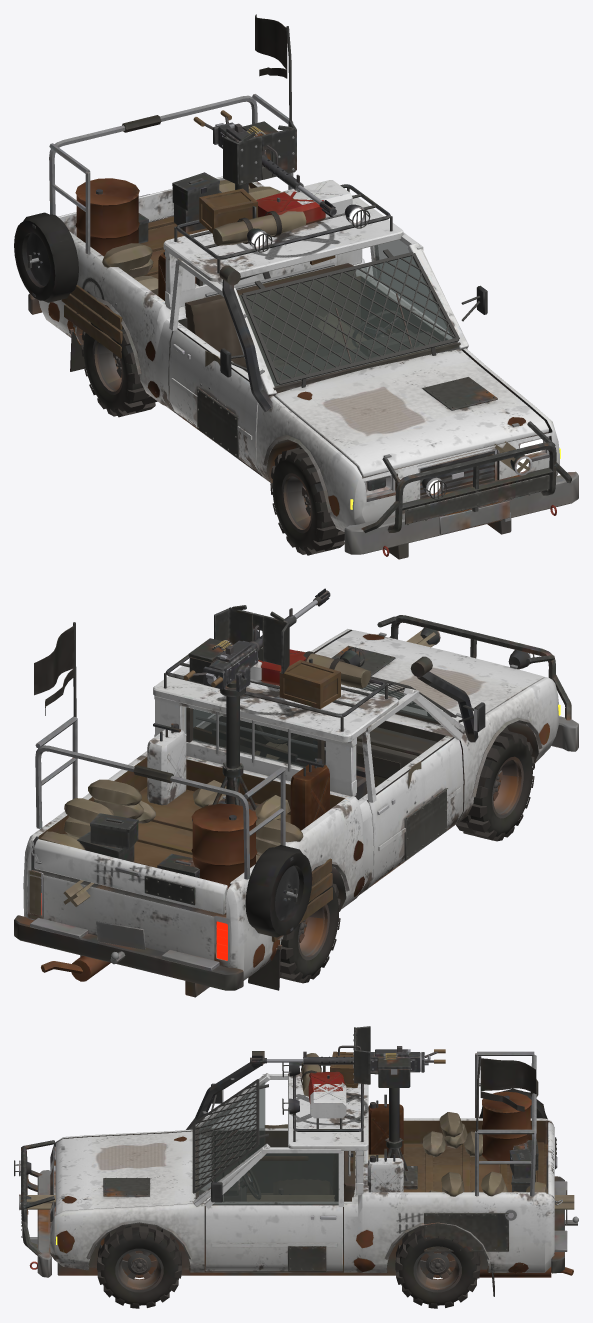
Rendered from e_technical.glb.
3 renders of one model, top to bottom at view 1: azimuth 30°, elevation 25°; view 2: azimuth 150°, elevation 25°; view 3: azimuth 270°, elevation 25°, orthographic. The views are drawn at different scales.
Visible parts, largest first — view 1: body_mesh, panel_hood, panel_bumper_F, panel_door_R, gun_mg, wheel_FR_tire, wheel_RR_tire, panel_door_L, wheel_FR_rim, panel_tailgate, wheel_RR_rim; view 2: body_mesh, panel_door_R, panel_hood, panel_bumper_R, gun_mg, panel_tailgate, panel_bumper_F, wheel_FR_tire, wheel_RR_tire, wheel_FR_rim, wheel_RR_rim; view 3: body_mesh, panel_door_L, panel_hood, wheel_FL_tire, panel_bumper_F, gun_mg, wheel_RL_tire, wheel_FL_rim, wheel_RL_rim, panel_bumper_R, panel_door_R, panel_tailgate.
Part boxes in pixels (x1,y1,x2,y2): body_mesh: (14,14,560,559); panel_hood: (274,349,548,477); panel_bumper_F: (170,216,578,556); panel_door_R: (169,258,261,474); gun_mg: (193,110,336,217); wheel_FR_tire: (270,447,344,555); wheel_RR_tire: (81,313,157,417); panel_door_L: (370,232,487,333); wheel_FR_rim: (281,473,312,533); panel_tailgate: (58,176,224,236); wheel_RR_rim: (92,340,123,394); body_mesh: (23,622,560,997); panel_door_R: (361,689,485,886); panel_hood: (315,630,544,726); panel_bumper_R: (14,915,243,990); gun_mg: (183,588,330,692); panel_tailgate: (34,839,227,914); panel_bumper_F: (63,615,578,906); wheel_FR_tire: (456,730,534,841); wheel_RR_tire: (280,876,340,983); wheel_FR_rim: (492,756,523,818); wheel_RR_rim: (298,904,329,960); body_mesh: (50,1051,573,1296); panel_door_L: (204,1147,343,1271); panel_hood: (56,1131,195,1214); wheel_FL_tire: (97,1223,181,1308); panel_bumper_F: (14,1140,574,1277); gun_mg: (250,1026,445,1087); wheel_RL_tire: (395,1226,480,1308); wheel_FL_rim: (115,1248,163,1292); wheel_RL_rim: (413,1251,461,1292); panel_bumper_R: (551,1176,578,1273); panel_door_R: (207,1074,308,1160); panel_tailgate: (548,1122,557,1199).
Bounding box in the file's own units: 2.3 × 2.6 × 5.32.
Materials: 24 (18 with a texture image).
